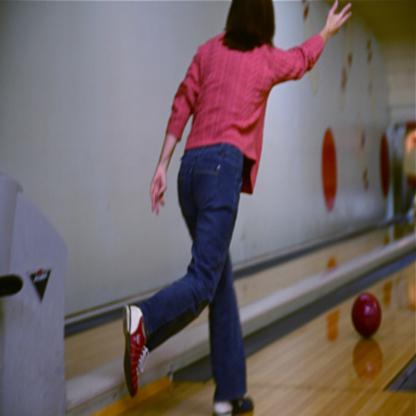Ball: (350, 290, 384, 341)
